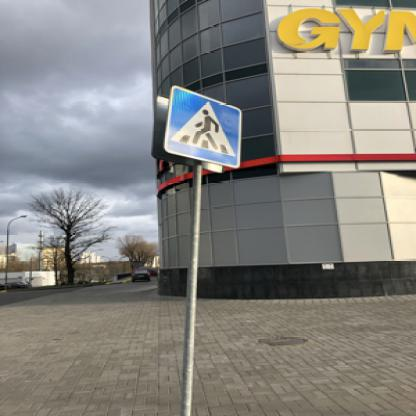crosswalk: (164, 86, 240, 167)
